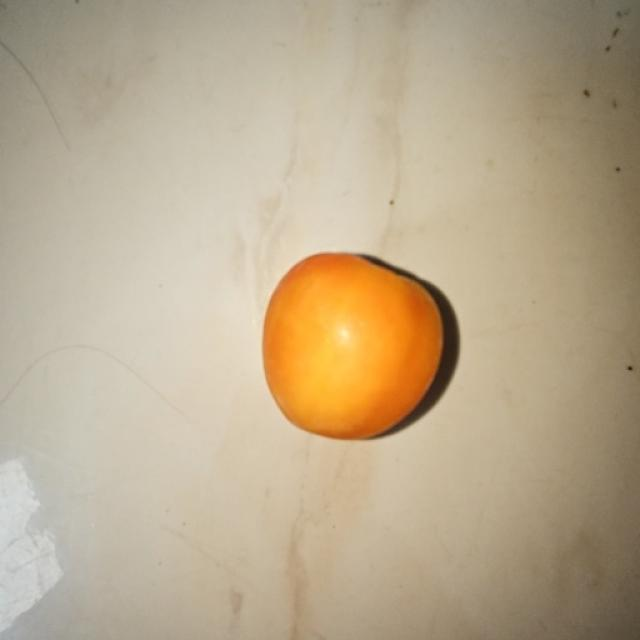Red: (260, 250, 445, 441)
